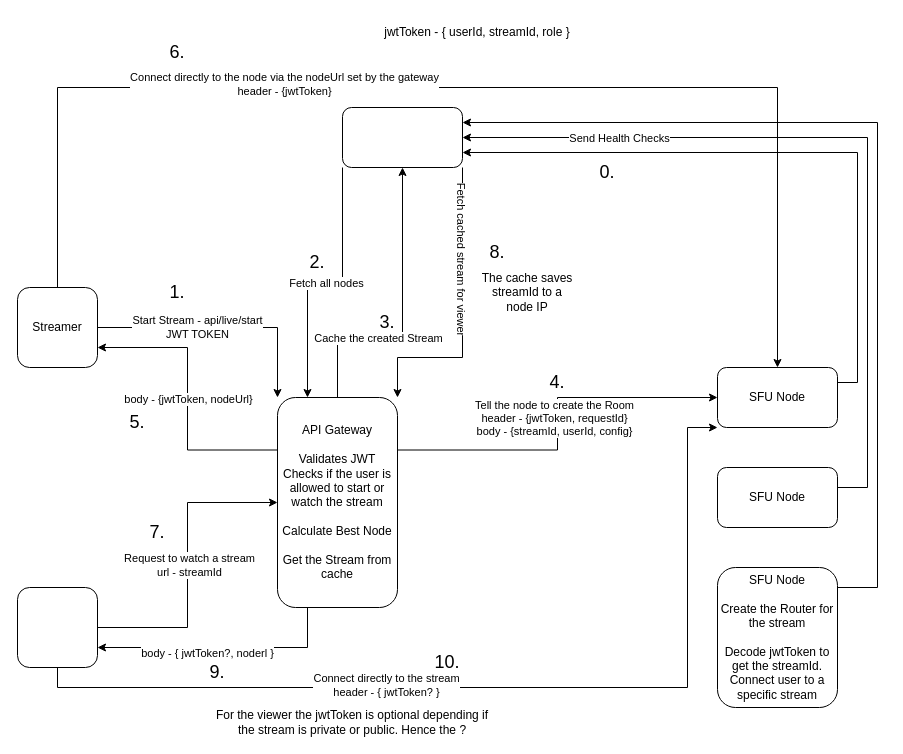
Image size: 903x754. Some labels were removed from this diagram. Each missing label, with the centre of its shape:
"Valkey" goes at (402,137).
"Viewer" goes at (57,627).
